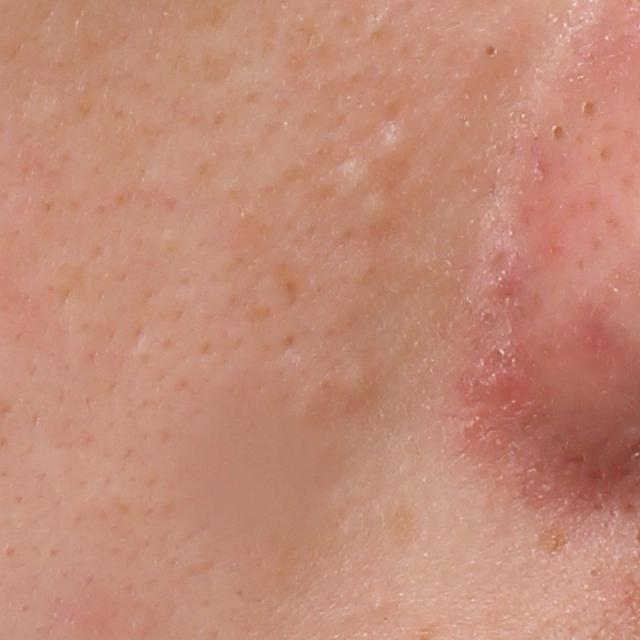comedo: (338, 349, 391, 404), (372, 118, 409, 164), (474, 41, 510, 69), (545, 116, 572, 147), (575, 96, 602, 123), (584, 563, 601, 581)
